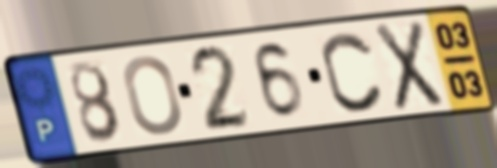2: (189, 43, 253, 132)
6: (249, 38, 307, 121)
8: (67, 59, 123, 145)
C: (319, 28, 387, 115)
O: (120, 52, 185, 138)
X: (371, 17, 447, 114)
